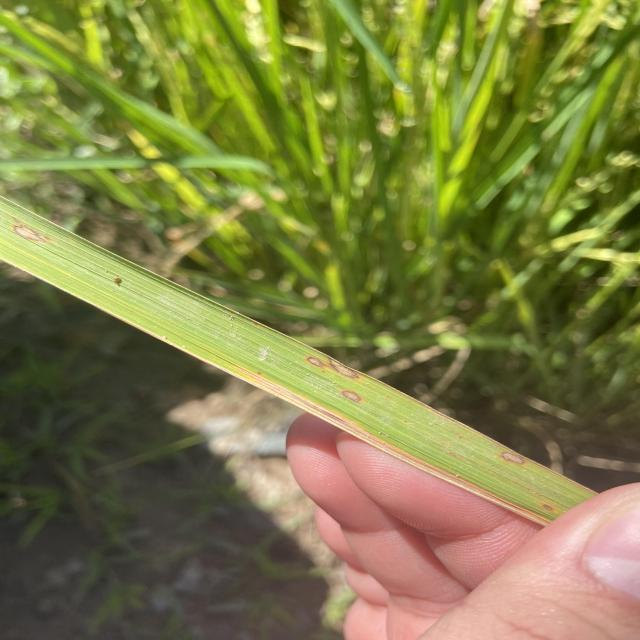Dao on: (330, 359, 360, 379), (15, 225, 46, 242), (502, 452, 524, 464), (342, 390, 362, 403), (306, 356, 325, 367)
